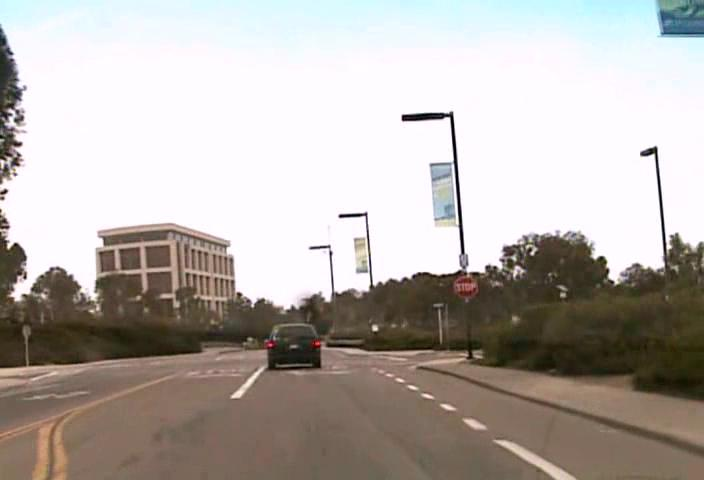stop: (452, 275, 477, 298)
